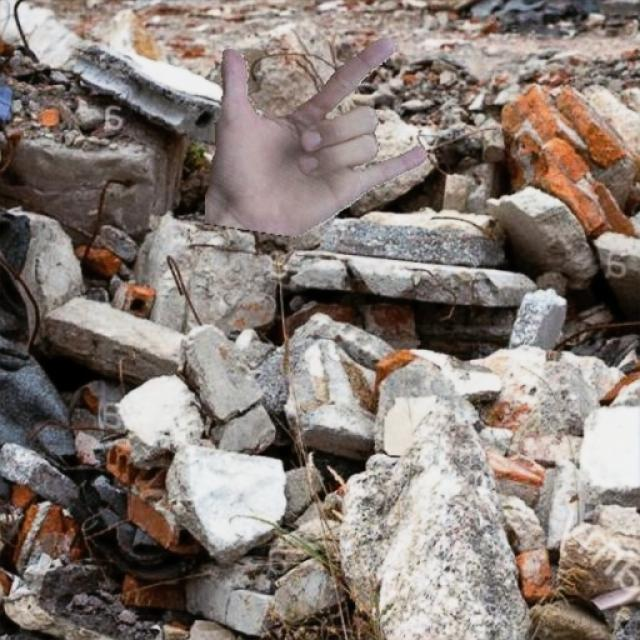Person in Rubble: (205, 38, 428, 238)
